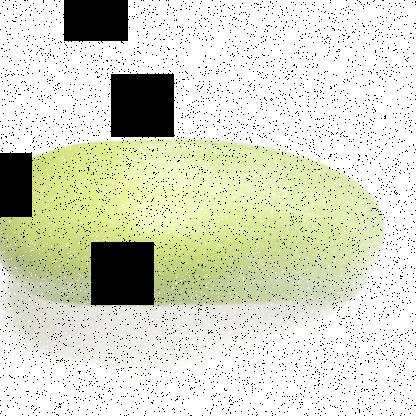freshunripe: (1, 122, 401, 327)
